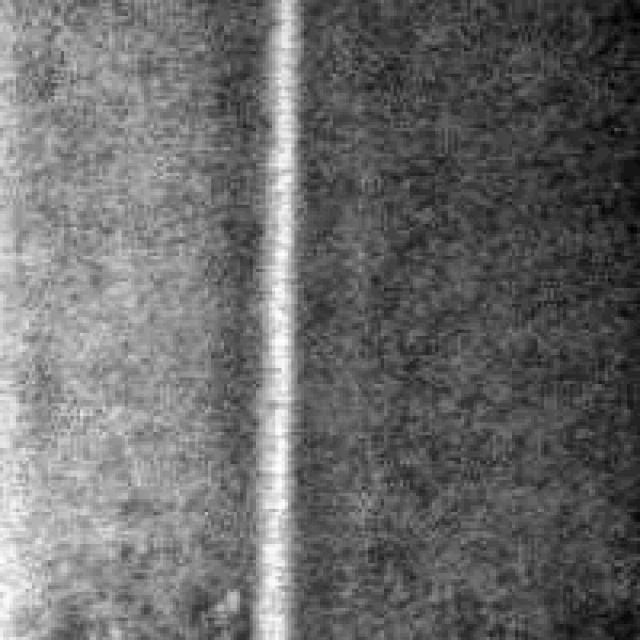Inclusion: (250, 41, 300, 598)
